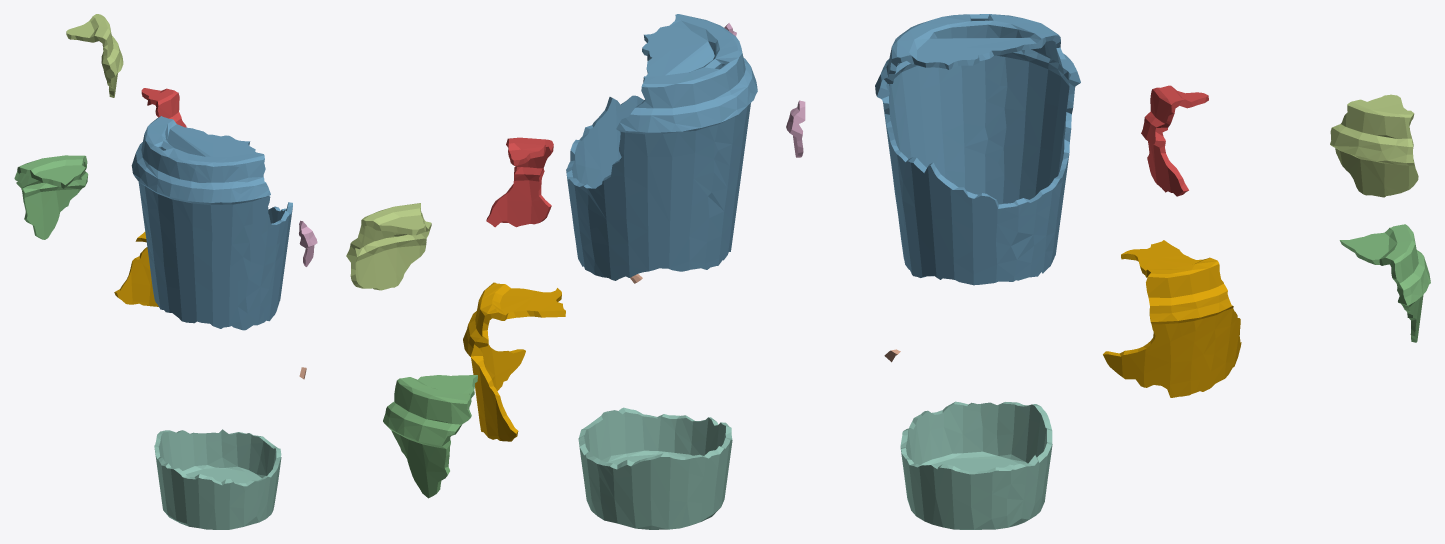
File: fractured_51_8pcs_transformed.glb
3 renders of one model, left to right at view 1: azimuth 30°, elevation 25°; view 2: azimuth 150°, elevation 25°; view 3: azimuth 270°, elevation 25°, orthographic. The views are drawn at different scales.
Parts seen in each view (by area): view 1: piece_2.obj, piece_4.obj, piece_3.obj, piece_5.obj, piece_0.obj, piece_1.obj, piece_6.obj; view 2: piece_2.obj, piece_4.obj, piece_3.obj, piece_0.obj, piece_5.obj, piece_1.obj; view 3: piece_2.obj, piece_4.obj, piece_0.obj, piece_5.obj, piece_3.obj, piece_1.obj.
Boxes of the visible parts, box(x1,y1,x2,y2) form: piece_2.obj: box(131, 116, 292, 330); piece_4.obj: box(154, 429, 281, 529); piece_3.obj: box(14, 155, 88, 239); piece_5.obj: box(66, 14, 123, 97); piece_0.obj: box(114, 231, 158, 306); piece_1.obj: box(141, 88, 186, 127); piece_6.obj: box(299, 220, 317, 266); piece_2.obj: box(566, 14, 757, 280); piece_4.obj: box(578, 407, 732, 529); piece_3.obj: box(383, 375, 477, 498); piece_0.obj: box(463, 282, 565, 441); piece_5.obj: box(346, 203, 431, 290); piece_1.obj: box(486, 137, 553, 227); piece_2.obj: box(875, 14, 1080, 285); piece_4.obj: box(900, 401, 1052, 529); piece_0.obj: box(1103, 240, 1241, 397); piece_5.obj: box(1330, 94, 1418, 197); piece_3.obj: box(1339, 224, 1430, 342); piece_1.obj: box(1141, 85, 1208, 196).
Bounding box in the file's own units: 0.7103 × 1.71 × 2.2.
